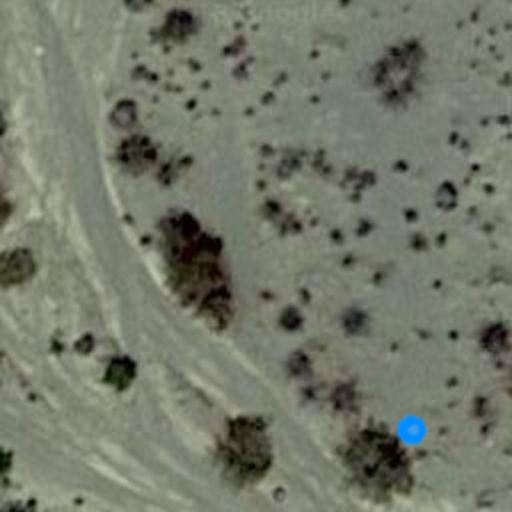heptagon: (394, 412, 430, 448)
